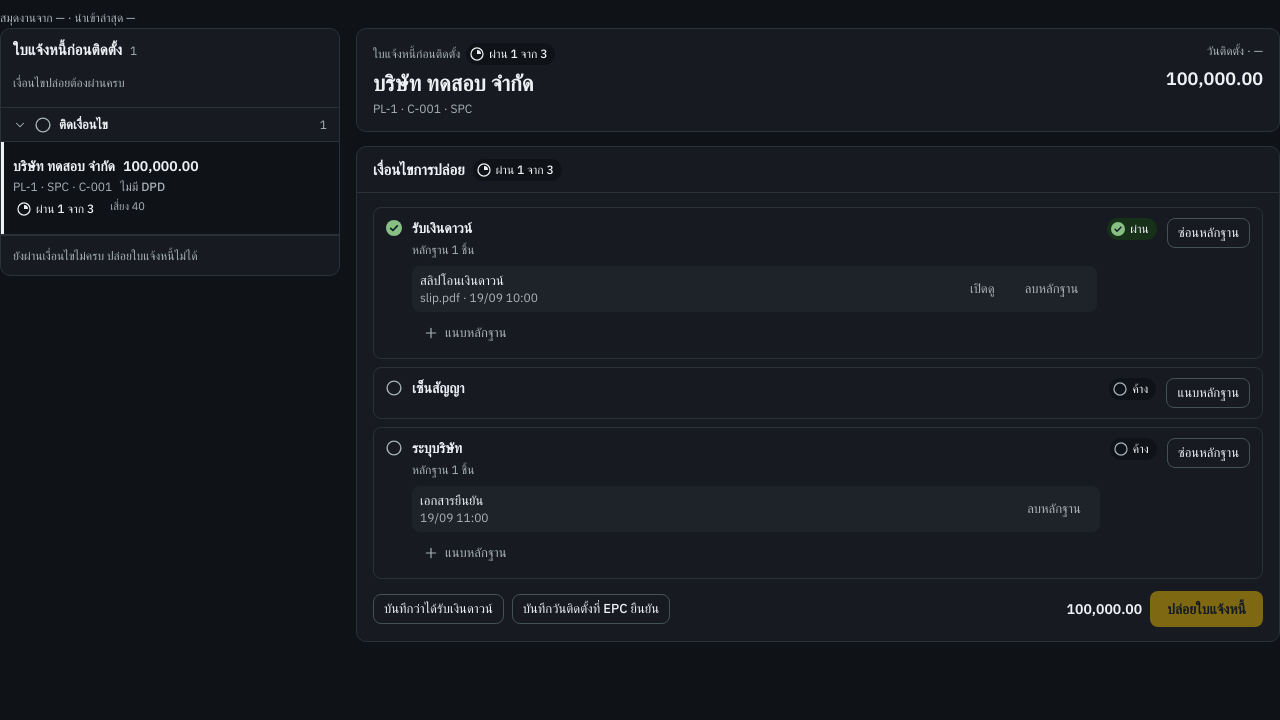
Pipeline evidence › keeps the attach verb disabled with neither a note nor a file
The width and height of the screenshot is (1280, 720).
Expected: the text "slip.pdf · 19/09 10:00" is shown, [420, 290, 538, 305]
Click the button "แนบหลักฐาน" in the row of "เซ็นสัญญา": [1208, 393] box [1166, 378, 1250, 408]
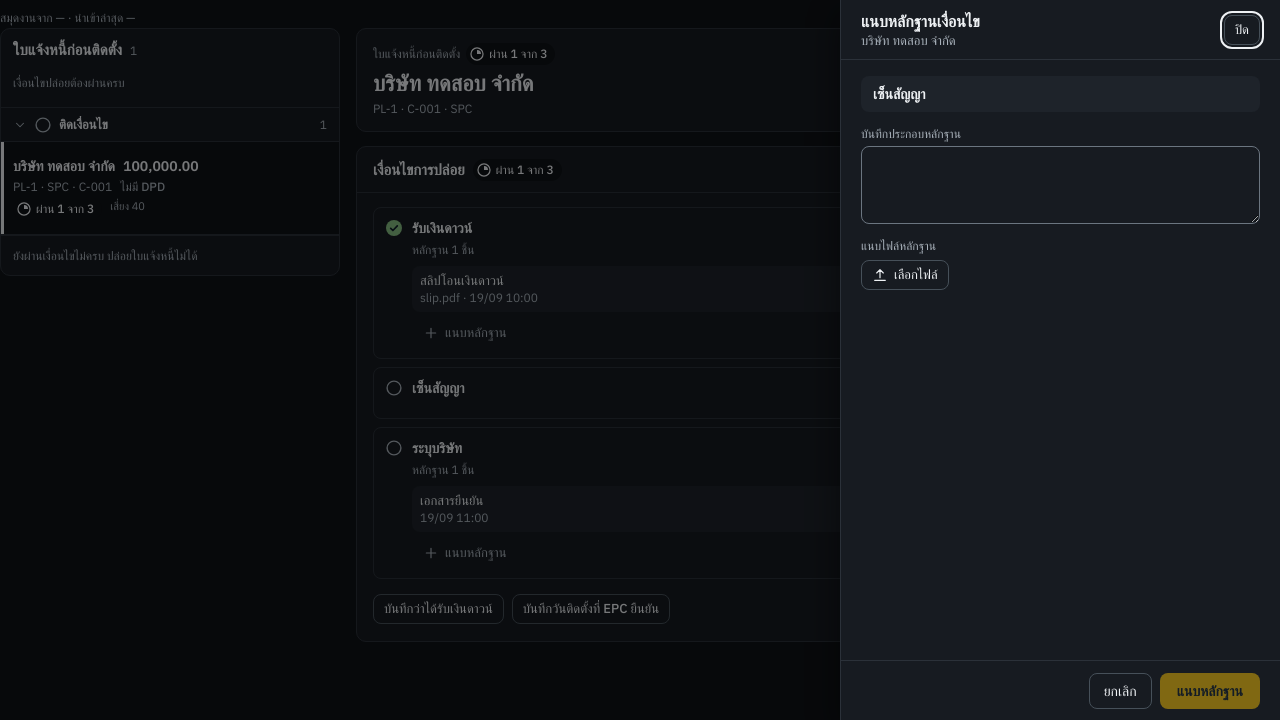
Result: the button "แนบหลักฐาน" is disabled at [1160, 672, 1260, 708]
